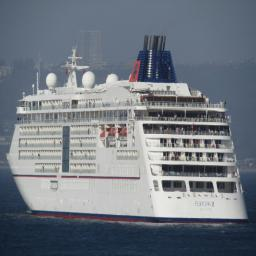cruises: (5, 34, 250, 228)
